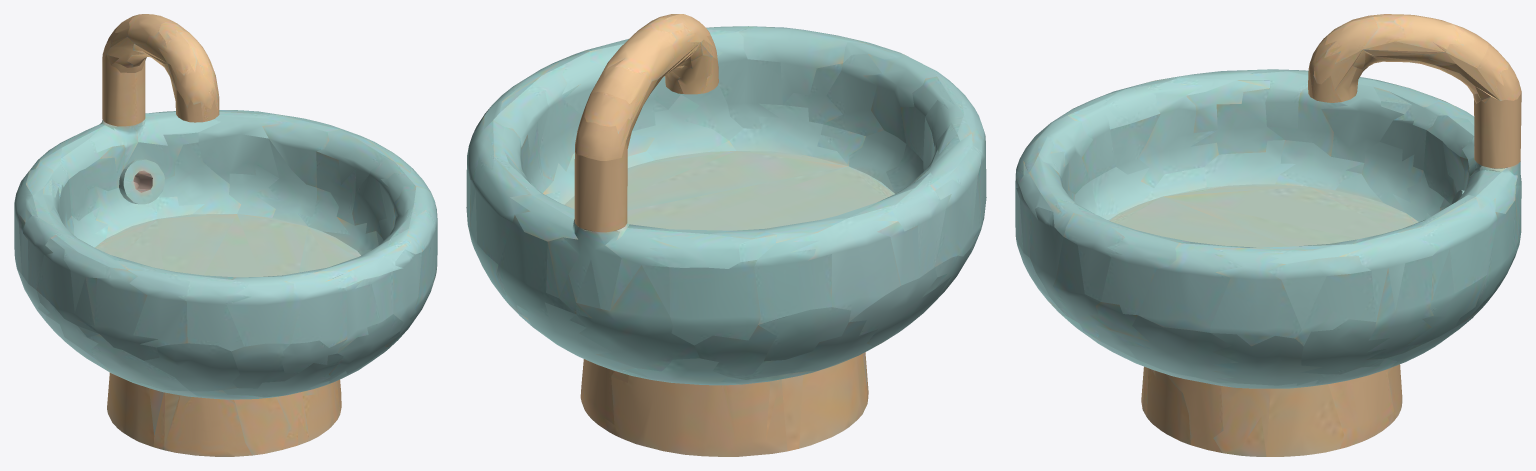
File: sink.2e10ec2b.glb
The picture shows the model from 3 angles, left to right: view 1: azimuth 30°, elevation 25°; view 2: azimuth 150°, elevation 25°; view 3: azimuth 270°, elevation 25°; orthographic projection. The views are drawn at different scales.
Parts seen in each view (by area): view 1: output_unwrapped; view 2: output_unwrapped; view 3: output_unwrapped.
Part boxes in pixels (box(x1,y1,x2,y2)): output_unwrapped: box(14, 14, 437, 456); output_unwrapped: box(466, 14, 986, 456); output_unwrapped: box(1015, 14, 1521, 456).
Size of the model in its own units: 1.76 by 1.6 by 1.9.
1 material, 1 textured.
